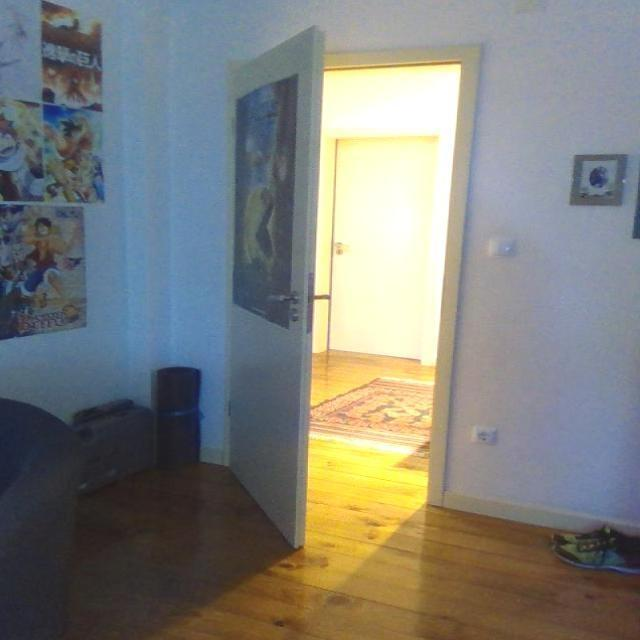door: (217, 15, 343, 557)
